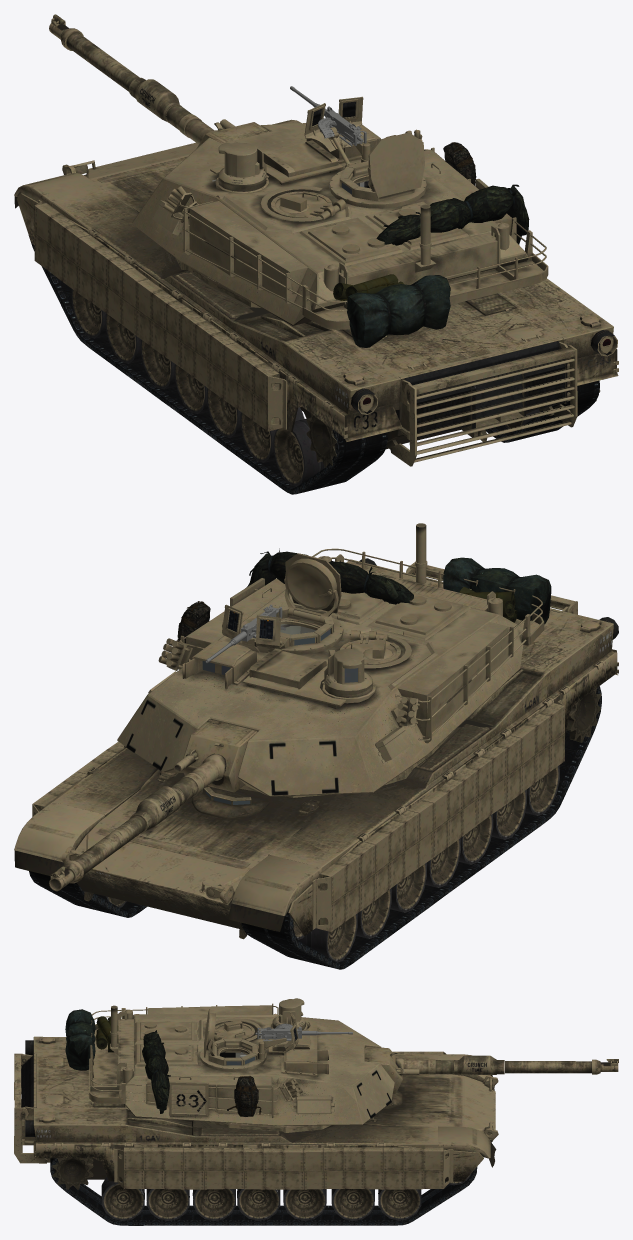
The picture shows the model from 3 angles, top to bottom: view 1: azimuth 30°, elevation 25°; view 2: azimuth 150°, elevation 25°; view 3: azimuth 270°, elevation 25°; orthographic projection. The views are drawn at different scales.
Visible parts, largest first — view 1: V_m1a1; view 2: V_m1a1; view 3: V_m1a1.
Part boxes in pixels (bbox=[...]): V_m1a1: bbox=[14, 14, 618, 494]; V_m1a1: bbox=[14, 523, 618, 969]; V_m1a1: bbox=[14, 998, 618, 1225].
Bounding box in the file's own units: 11.06 × 9.45 × 28.35.
12 materials, 12 textured.
